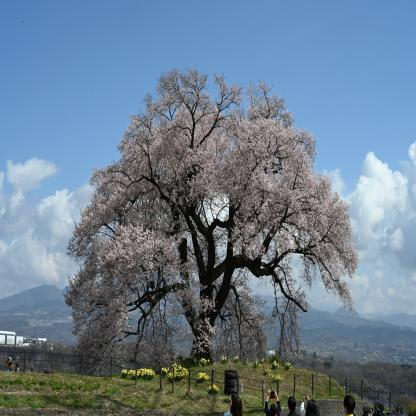EdohiganSakura: (62, 63, 360, 374)
